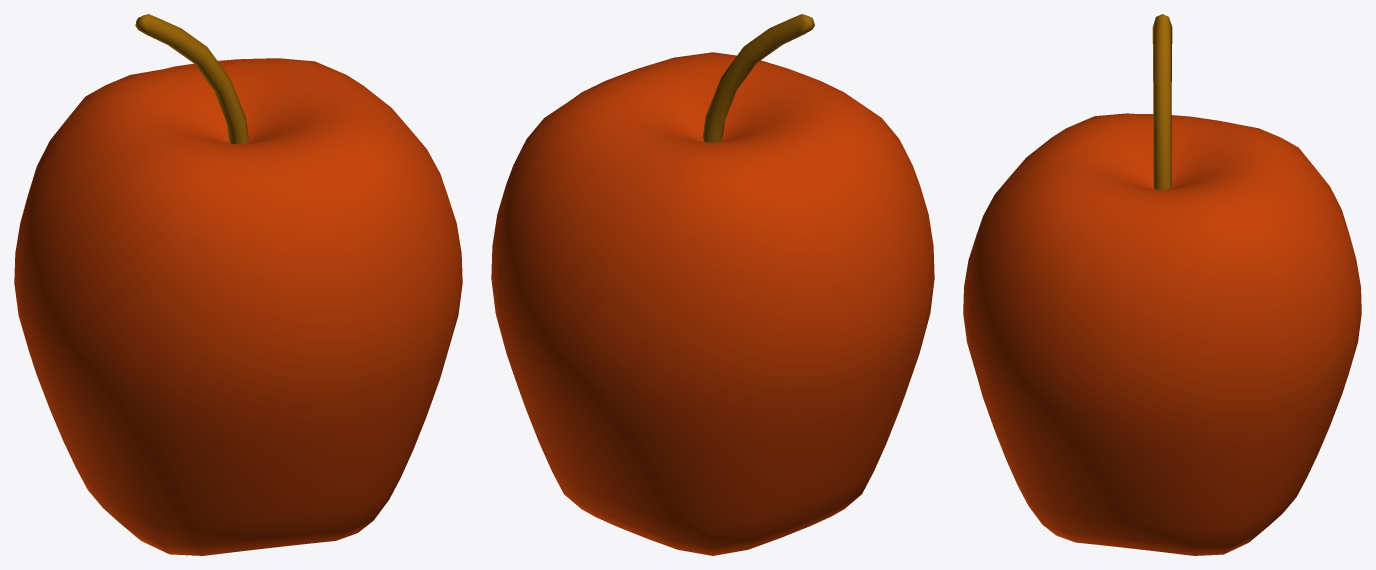
The model's file is Apple.fbx.
The picture shows the model from 3 angles, left to right: view 1: azimuth 30°, elevation 25°; view 2: azimuth 150°, elevation 25°; view 3: azimuth 270°, elevation 25°; orthographic projection. The views are drawn at different scales.
Parts seen in each view (by area): view 1: Apple, Apple_01; view 2: Apple, Apple_01; view 3: Apple, Apple_01.
Boxes of the visible parts, bbox=[...] form: Apple: bbox=[14, 58, 462, 555]; Apple_01: bbox=[135, 14, 248, 144]; Apple: bbox=[491, 52, 934, 555]; Apple_01: bbox=[703, 14, 814, 142]; Apple: bbox=[963, 113, 1361, 555]; Apple_01: bbox=[1152, 14, 1172, 189].
Bounding box in the file's own units: 1.96 × 2.51 × 1.96.
